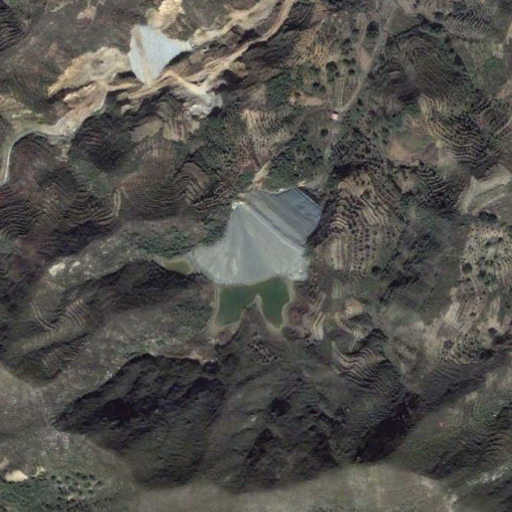tp: (146, 187, 325, 334)
